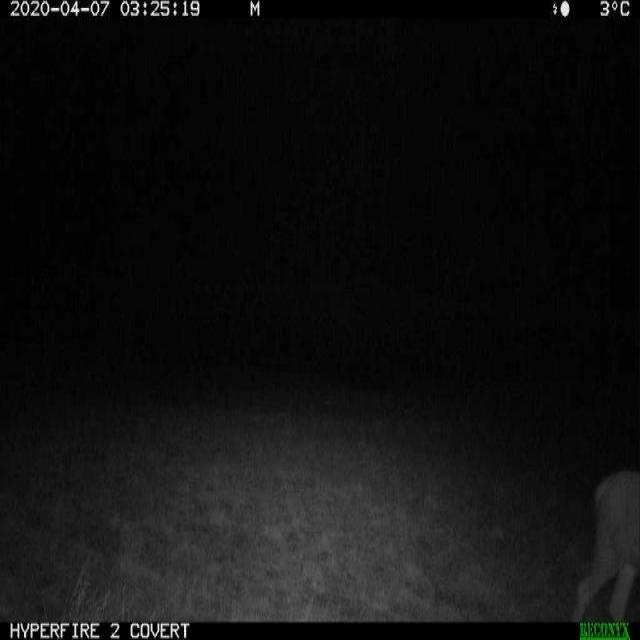deer: (556, 452, 640, 625)
